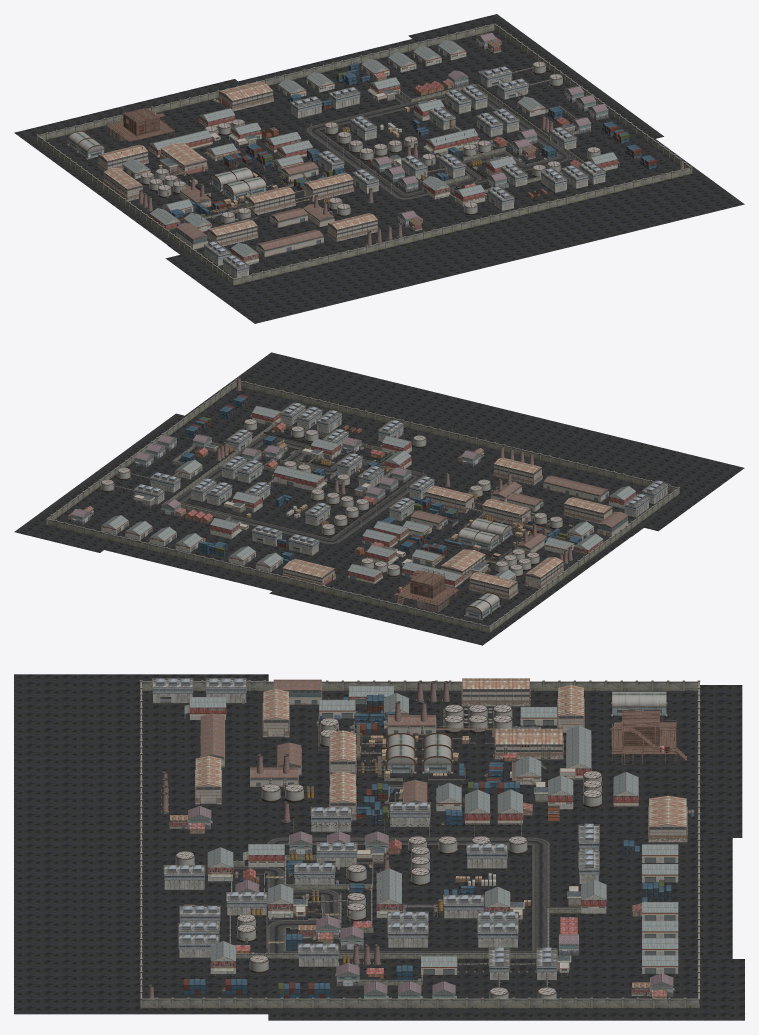
Rendered from industrial_map.glb.
3 renders of one model, top to bottom at view 1: azimuth 30°, elevation 25°; view 2: azimuth 150°, elevation 25°; view 3: azimuth 270°, elevation 25°, orthographic. The views are drawn at different scales.
Parts seen in each view (by area): view 1: House, Hangar_v6_4__1_, Hangar_v6_1, Hangar_v6_1__7_, Hangar_v6_1__1_, Hangar_v6_1__2_, Hangar_v6_4, Hangar_v6_1__3_, Hangar_v6_1__4_, Hangar_v7_1, Hangar_v7, Hangar_v5_2 (+10 smaller); view 2: House, Hangar_v6_4__1_, Hangar_v6_1__7_, Hangar_v6_1__3_, Hangar_v6_1, Hangar_v6_1__2_, Hangar_v6_1__1_, Hangar_v6_1__4_, Hangar_v6_4, Hangar_v7__1_, Hangar_v7_1, Hangar_v7 (+6 smaller); view 3: House, Hangar_v6_4, Hangar_v6_1__4_, Hangar_v6_4__1_, Hangar_v6_1__2_, Hangar_v6_1__7_, Hangar_v7__1_, Hangar_v7_1, Hangar_v7, Hangar_v6_1__3_, Hangar_v6_1, Hangar_v4__15_ (+175 smaller).
Part boxes in pixels (x1,y1,x2,y2): House: [107, 106, 174, 146]; Hangar_v6_4__1_: [218, 81, 273, 111]; Hangar_v6_1: [245, 186, 295, 215]; Hangar_v6_1__7_: [327, 213, 378, 241]; Hangar_v6_1__1_: [303, 173, 354, 201]; Hangar_v6_1__2_: [207, 219, 258, 246]; Hangar_v6_4: [160, 142, 208, 175]; Hangar_v6_1__3_: [97, 144, 148, 171]; Hangar_v6_1__4_: [103, 168, 143, 200]; Hangar_v7_1: [67, 130, 105, 159]; Hangar_v7: [222, 175, 266, 200]; Hangar_v5_2: [176, 223, 207, 249]; House: [394, 568, 458, 612]; Hangar_v6_4__1_: [282, 558, 335, 585]; Hangar_v6_1__7_: [493, 457, 542, 485]; Hangar_v6_1__3_: [468, 572, 518, 599]; Hangar_v6_1: [481, 499, 531, 526]; Hangar_v6_1__2_: [563, 497, 612, 523]; Hangar_v6_1__1_: [425, 485, 474, 513]; Hangar_v6_1__4_: [524, 557, 563, 589]; Hangar_v6_4: [440, 549, 486, 580]; Hangar_v7__1_: [457, 526, 500, 551]; Hangar_v7_1: [464, 592, 501, 620]; Hangar_v7: [470, 517, 513, 542]; House: [609, 701, 686, 764]; Hangar_v6_4: [494, 728, 563, 759]; Hangar_v6_1__4_: [461, 678, 530, 706]; Hangar_v6_4__1_: [648, 795, 687, 842]; Hangar_v6_1__2_: [262, 689, 289, 737]; Hangar_v6_1__7_: [195, 755, 221, 804]; Hangar_v7__1_: [422, 733, 453, 773]; Hangar_v7_1: [611, 690, 667, 716]; Hangar_v7: [385, 733, 416, 773]; Hangar_v6_1__3_: [557, 685, 584, 732]; Hangar_v6_1: [329, 730, 356, 779]; Hangar_v4__15_: [466, 843, 507, 869].
Size of the model in its own units: 446 by 26.97 by 398.
Materials: 61 (58 with a texture image).
